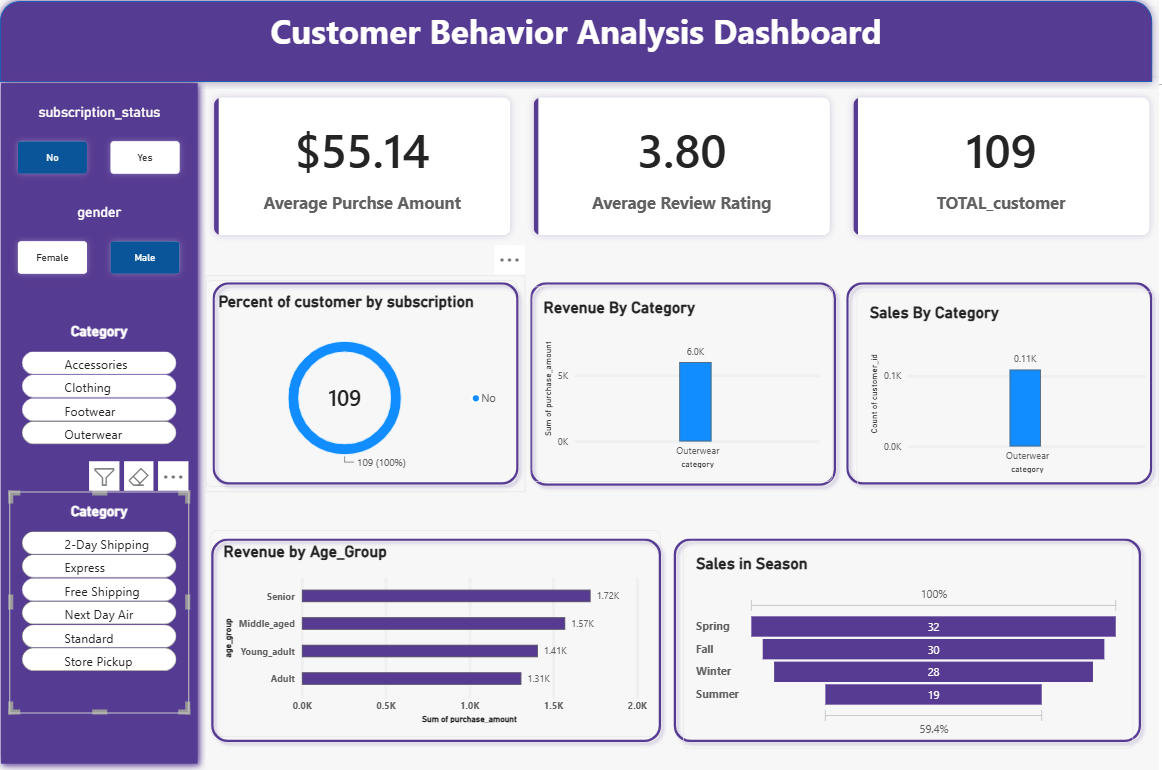

The dashboard page shown, as its layout file describes it:
{"tool":"powerbi","page":{"name":"Page 1","canvas":[1500,1000],"ordinal":0},"visuals":[{"type":"cardVisual","fields":{"Data":["measure.Average Purchse Amount","measure.Average Review Rating","measure.TOTAL_customer"]},"box":[273.4,122.2,1227,199.4],"z":2},{"type":"shape","box":[0,0,1500.3,122.2],"z":3},{"type":"textbox","box":[801,55,516,150],"z":4},{"type":"textbox","box":[1327,55,516,150],"z":5},{"type":"textbox","box":[0,17.7,1500.3,86.8],"z":6},{"type":"donutChart","title":"Percent of customer by subscription","fields":{"Category":["customer_behaviordb customer_table.subscription_status"],"Y":["CountNonNull(customer_behaviordb customer_table.customer_id)"]},"box":[273.4,368.2,400.4,265.3],"z":7},{"type":"shape","box":[273.4,361.8,411.7,278.2],"z":8},{"type":"shape","box":[681.8,361.8,411.7,279.8],"z":13},{"type":"shape","box":[1088.7,361.8,411.7,278.2],"z":14},{"type":"columnChart","title":"Revenue By Category","fields":{"Category":["customer_behaviordb customer_table.category"],"Y":["Sum(customer_behaviordb customer_table.purchase_amount)"]},"box":[691.5,376.3,389.2,250.9],"z":15},{"type":"columnChart","title":"Sales By Category","fields":{"Category":["customer_behaviordb customer_table.category"],"Y":["CountNonNull(customer_behaviordb customer_table.customer_id)"]},"box":[1111.2,382.7,389.2,250.9],"z":16},{"type":"shape","box":[0,104.5,273.4,895.7],"z":17},{"type":"advancedSlicerVisual","fields":{"Values":["customer_behaviordb customer_table.subscription_status"]},"box":[20.9,141.5,231.6,101.3],"z":18},{"type":"advancedSlicerVisual","fields":{"Values":["customer_behaviordb customer_table.gender"]},"box":[20.9,270.2,231.6,101.3],"z":19},{"type":"listSlicer","title":"Category","fields":{"Values":["customer_behaviordb customer_table.category"]},"box":[20.9,408.4,231.6,207.4],"z":21},{"type":"listSlicer","title":"Category","fields":{"Values":["customer_behaviordb customer_table.shipping_type"]},"box":[20.9,640,231.6,284.6],"z":22},{"type":"clusteredBarChart","title":"Revenue by Age_Group","fields":{"Category":["customer_behaviordb customer_table.age_group"],"Y":["Sum(customer_behaviordb customer_table.purchase_amount)"]},"box":[279.8,689.9,578.9,265.3],"z":24},{"type":"shape","box":[866.7,691.5,619.1,279.8],"z":26},{"type":"shape","box":[271.8,691.5,596.6,279.8],"z":28},{"type":"funnel","title":"Sales in Season","fields":{"Category":["customer_behaviordb customer_table.season"],"Y":["CountNonNull(customer_behaviordb customer_table.item_purchased)"]},"box":[887.7,705.9,578.9,265.3],"z":30}]}

Visuals, with their boxes in screenshot pixels (x1, y1, x2, y2), scaled from the page's 1500x1000 canvas onto the 1162x770 screenshot:
cardVisual - measure.Average Purchse Amount x measure.Average Review Rating: (212, 94, 1161, 248)
shape: (0, 0, 1161, 94)
textbox: (621, 42, 1020, 158)
textbox: (1028, 42, 1161, 158)
textbox: (0, 14, 1161, 80)
"Percent of customer by subscription" donutChart: (212, 284, 522, 488)
shape: (212, 279, 531, 493)
shape: (528, 279, 847, 494)
shape: (843, 279, 1161, 493)
"Revenue By Category" columnChart: (536, 290, 837, 483)
"Sales By Category" columnChart: (861, 295, 1161, 488)
shape: (0, 80, 212, 769)
advancedSlicerVisual - customer_behaviordb customer_table.subscription_status: (16, 109, 196, 187)
advancedSlicerVisual - customer_behaviordb customer_table.gender: (16, 208, 196, 286)
"Category" listSlicer: (16, 314, 196, 474)
"Category" listSlicer: (16, 493, 196, 712)
"Revenue by Age_Group" clusteredBarChart: (217, 531, 665, 736)
shape: (671, 532, 1151, 748)
shape: (211, 532, 673, 748)
"Sales in Season" funnel: (688, 544, 1136, 748)
